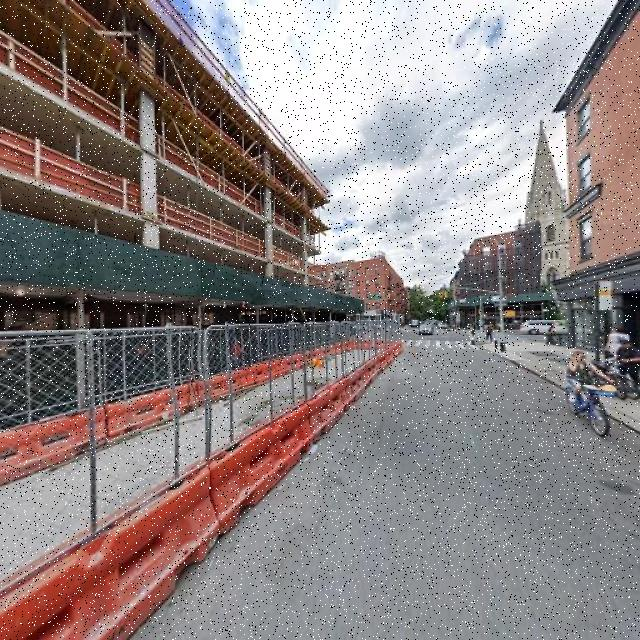Building: (1, 1, 320, 422), (568, 1, 640, 364)
